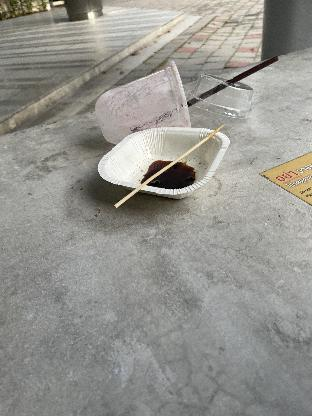Plastic Cup: (94, 60, 194, 150)
Styrofoam: (96, 122, 236, 198)
